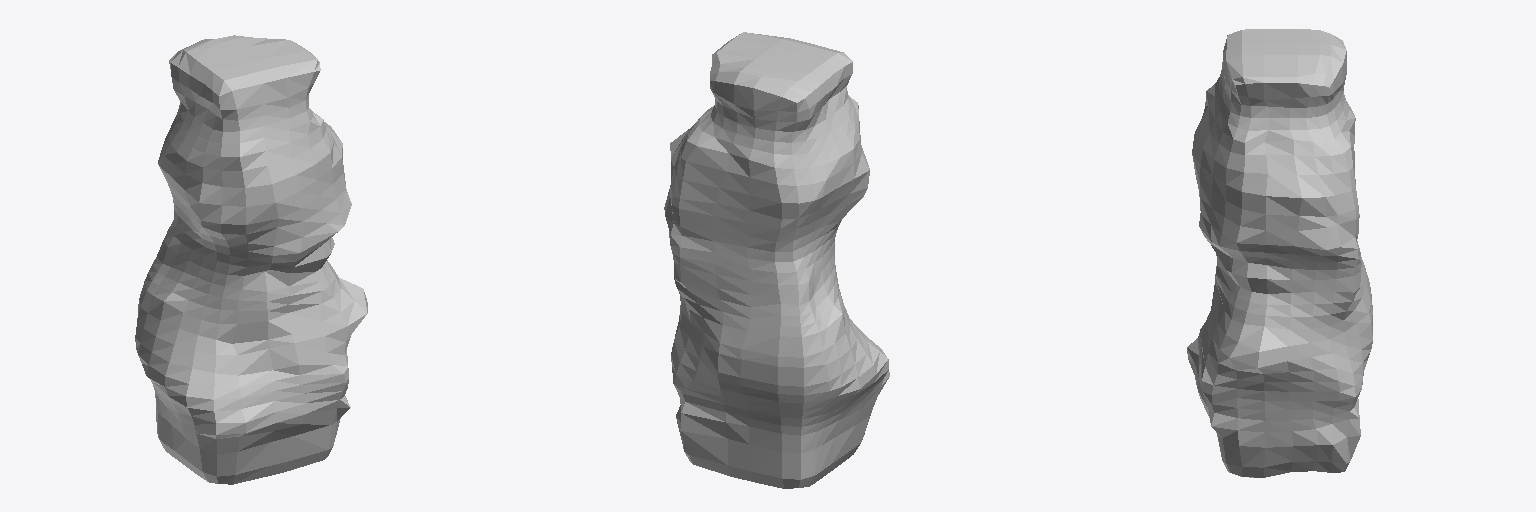
The model's file is env_level1_Canyon_Rock06.obj.
The picture shows the model from 3 angles: view 1: azimuth 30°, elevation 25°; view 2: azimuth 150°, elevation 25°; view 3: azimuth 270°, elevation 25°; orthographic projection.
Visible parts, largest first — view 1: rockwall_a05; view 2: rockwall_a05; view 3: rockwall_a05.
Boxes of the visible parts, x1=… form: rockwall_a05: x1=135, y1=35, x2=367, y2=484; rockwall_a05: x1=664, y1=32, x2=889, y2=488; rockwall_a05: x1=1187, y1=29, x2=1372, y2=477.
Size of the model in its own units: 2284 by 4393 by 1828.